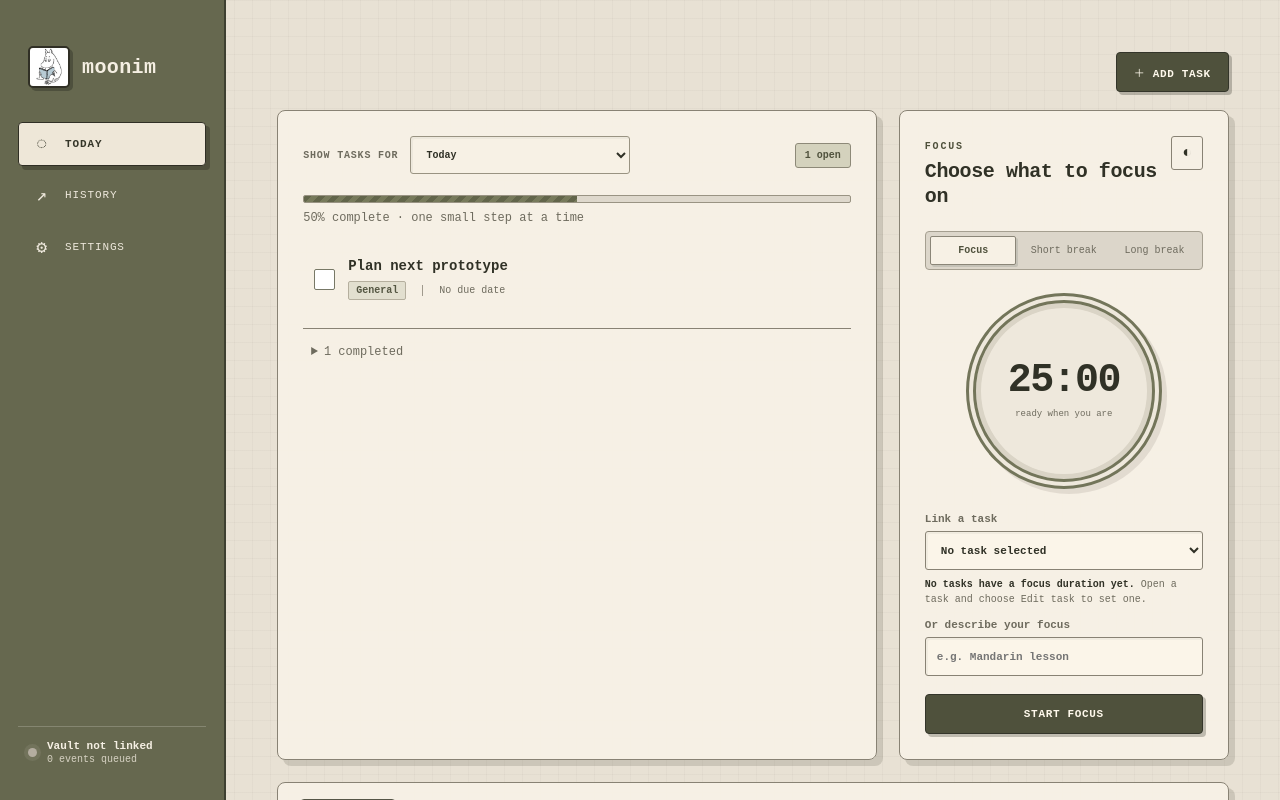
Test: moonim renderer layout and theme › shows every current task in a clickable All tasks list and excludes deleted tasks
Click the button "↗ History" at (112, 195), box [18,172,206,218]
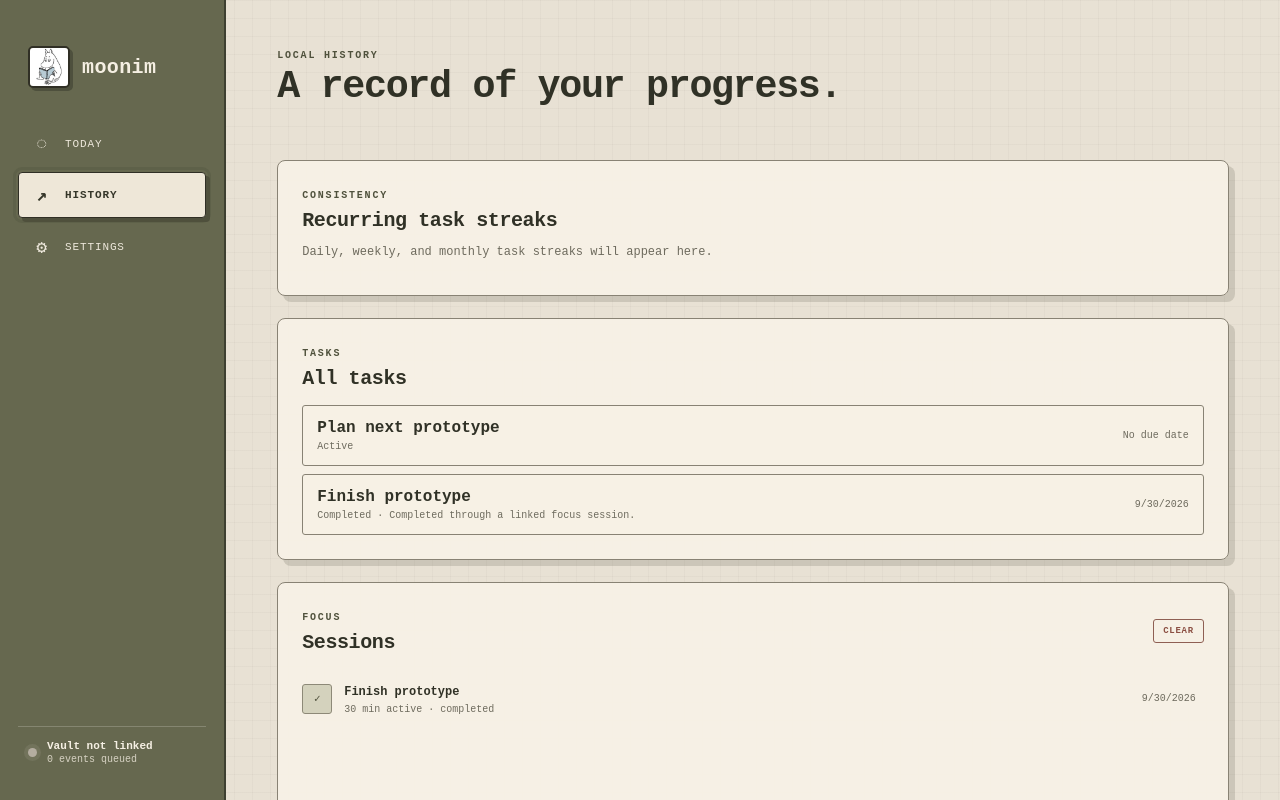
Now the heading "All tasks" is shown, box [302,366,407,392]
Now the button with aria-label "open plan next prototype task" is shown, box [302,406,1204,466]
Click the button with aria-label "open finish prototype task" at (394, 497), box [302,474,1204,536]
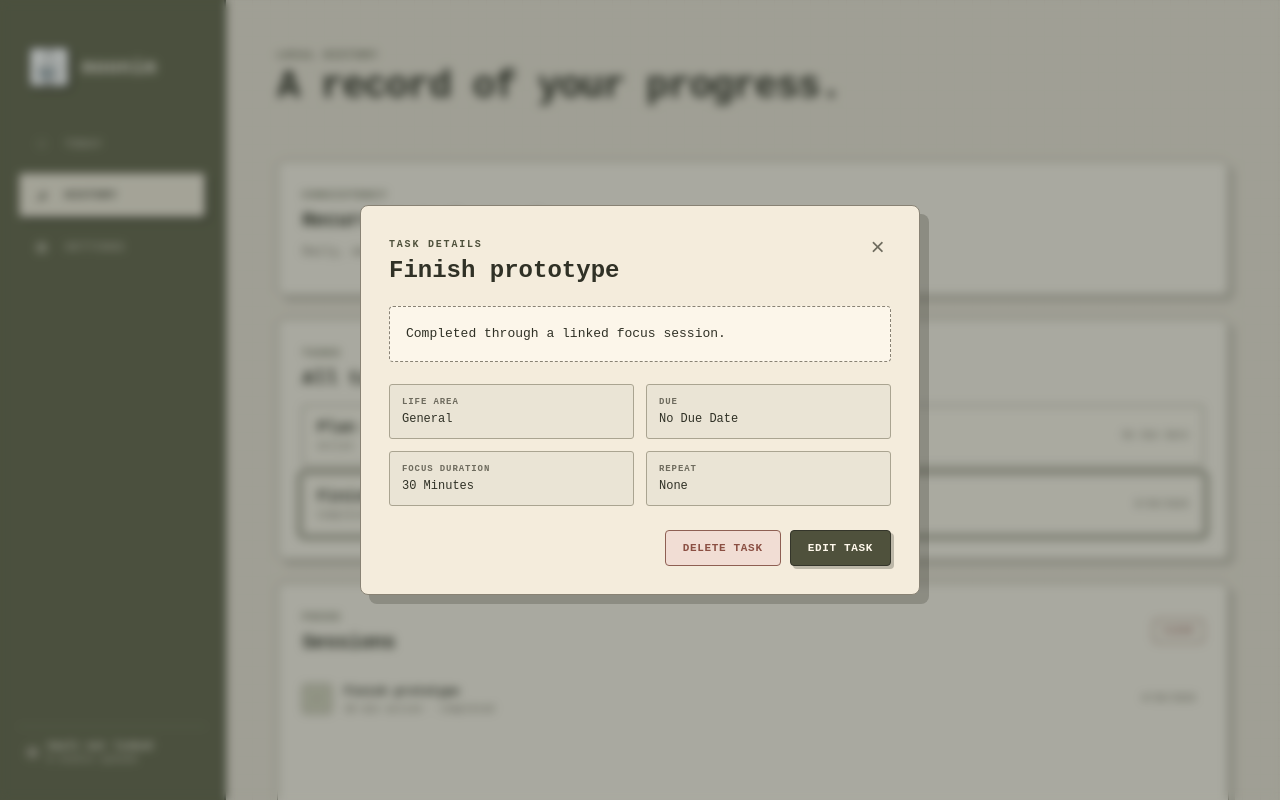
Now the dialog "Finish prototype" is shown, box [360,205,920,595]
Now the button "Edit task" is shown, box [790,530,891,566]
Now the button "Delete task" is shown, box [665,530,781,566]
